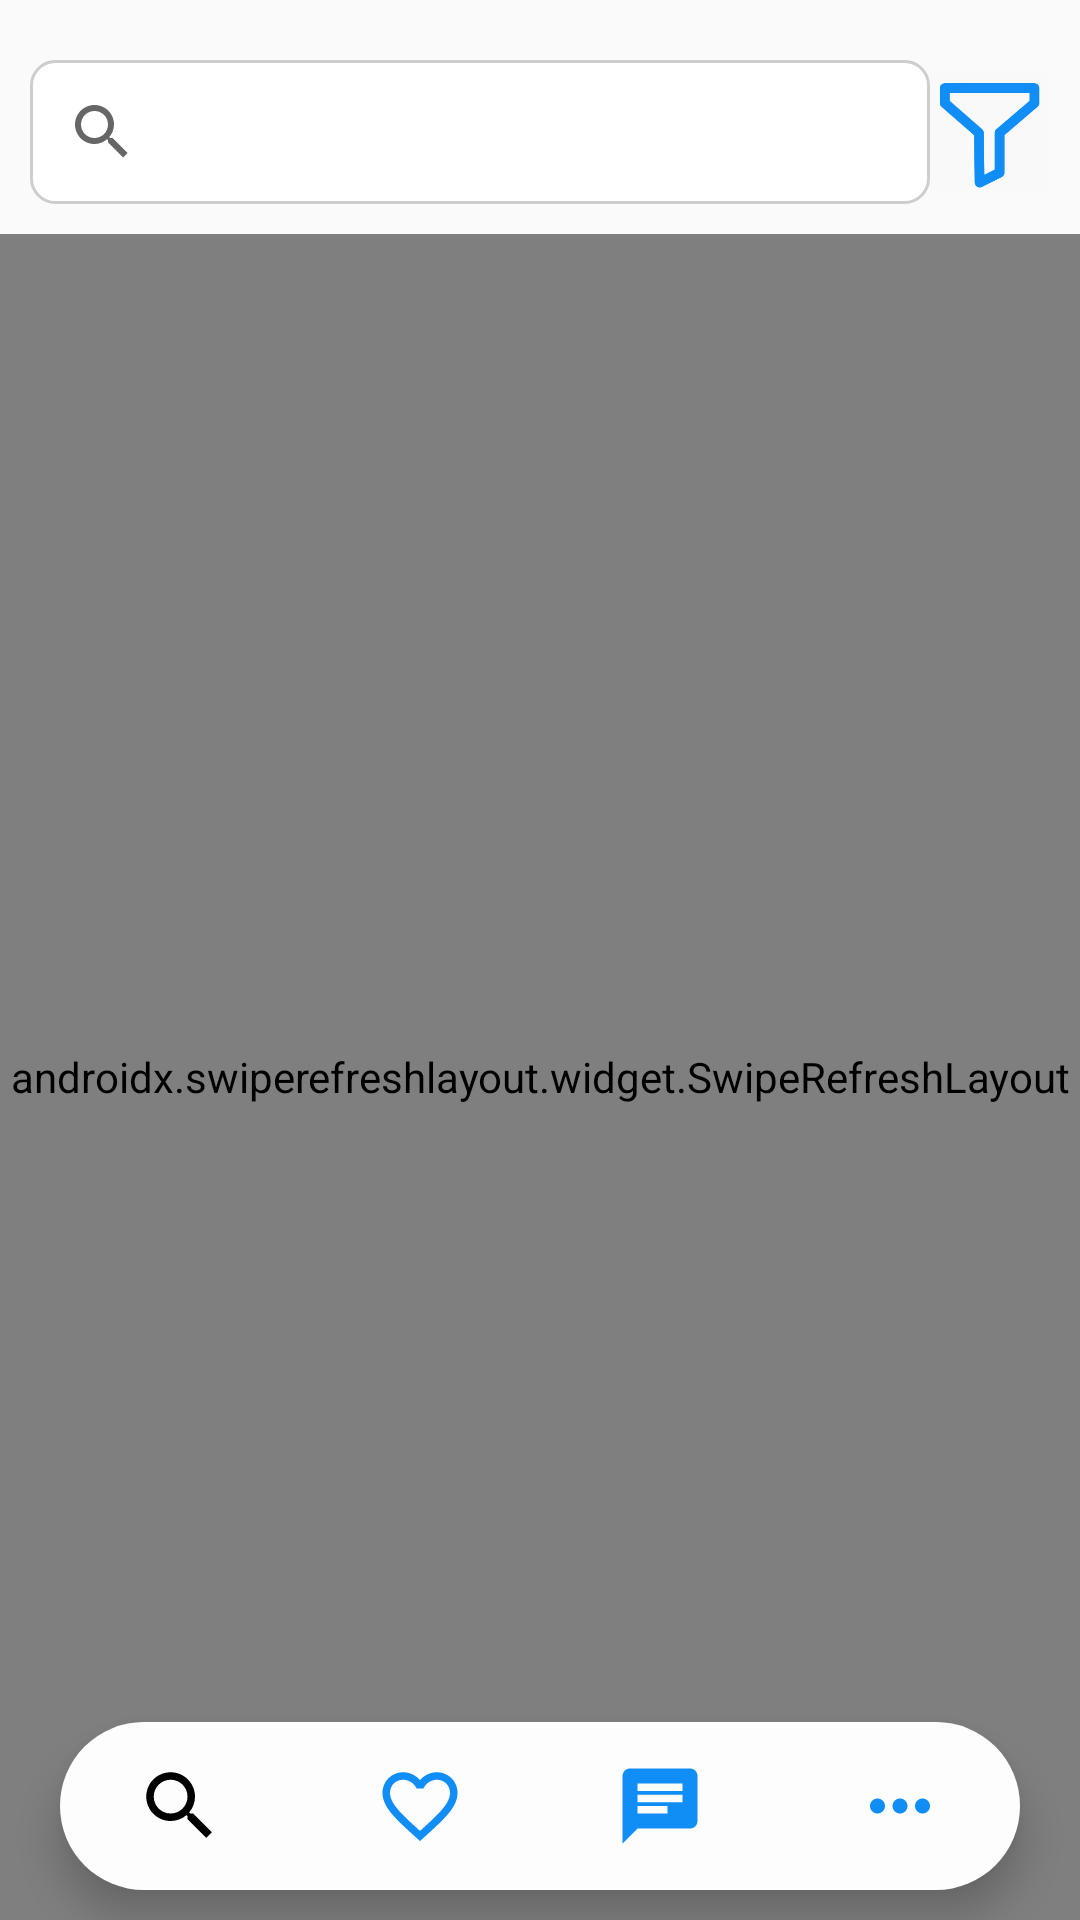

Icons on this 1080px x 1920px Android screen, each with the point to tap as (x=x, y=y):
filter: (x=990, y=135)
